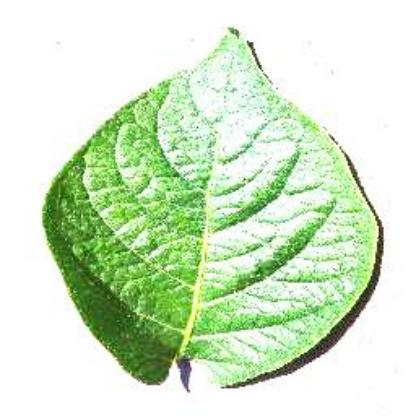Healthy-plant: (35, 21, 384, 390)
